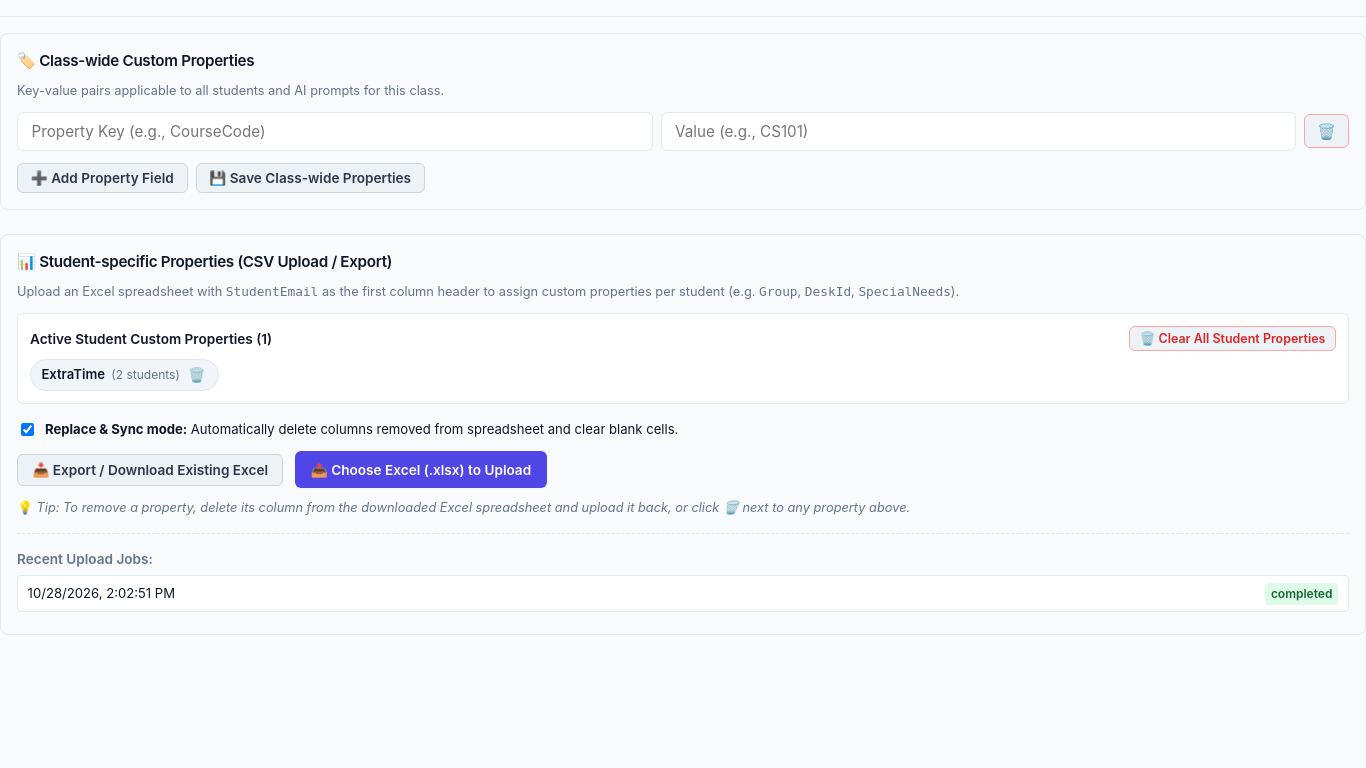
it: CustomPropertiesManager Component › handles deleting an individual student property key across all students
The width and height of the screenshot is (1366, 768).
Expected: the text "ExtraTime" is shown, [41,365,105,385]
Expected: the text "(2 students)" is shown, [111,366,180,384]
Click the button titled "Delete property \"ExtraTime\" from all students" in the row of "ExtraTime" at (197, 375), box [186,367,207,383]
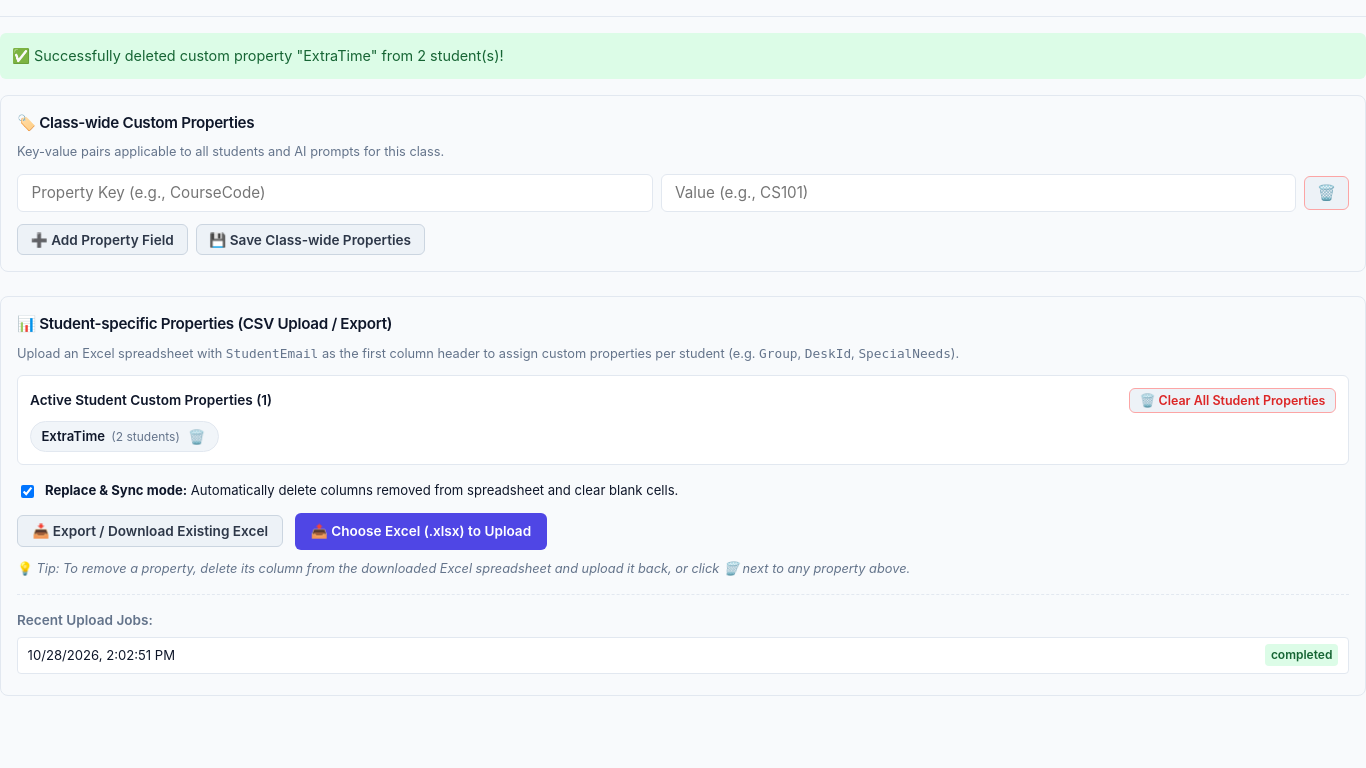
Now the text "Successfully deleted custom property \"ExtraTime\"" is shown, box [34,47,504,64]
